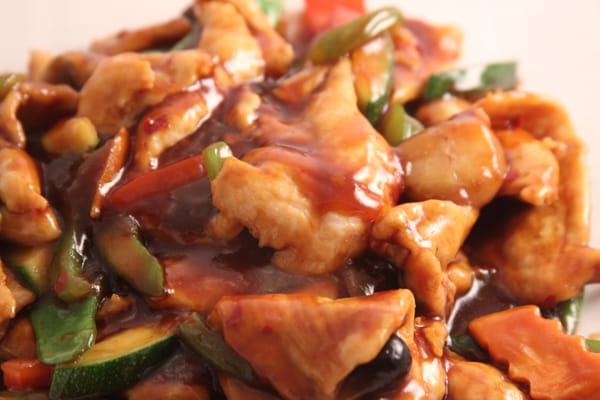pizza: (467, 304, 599, 397)
